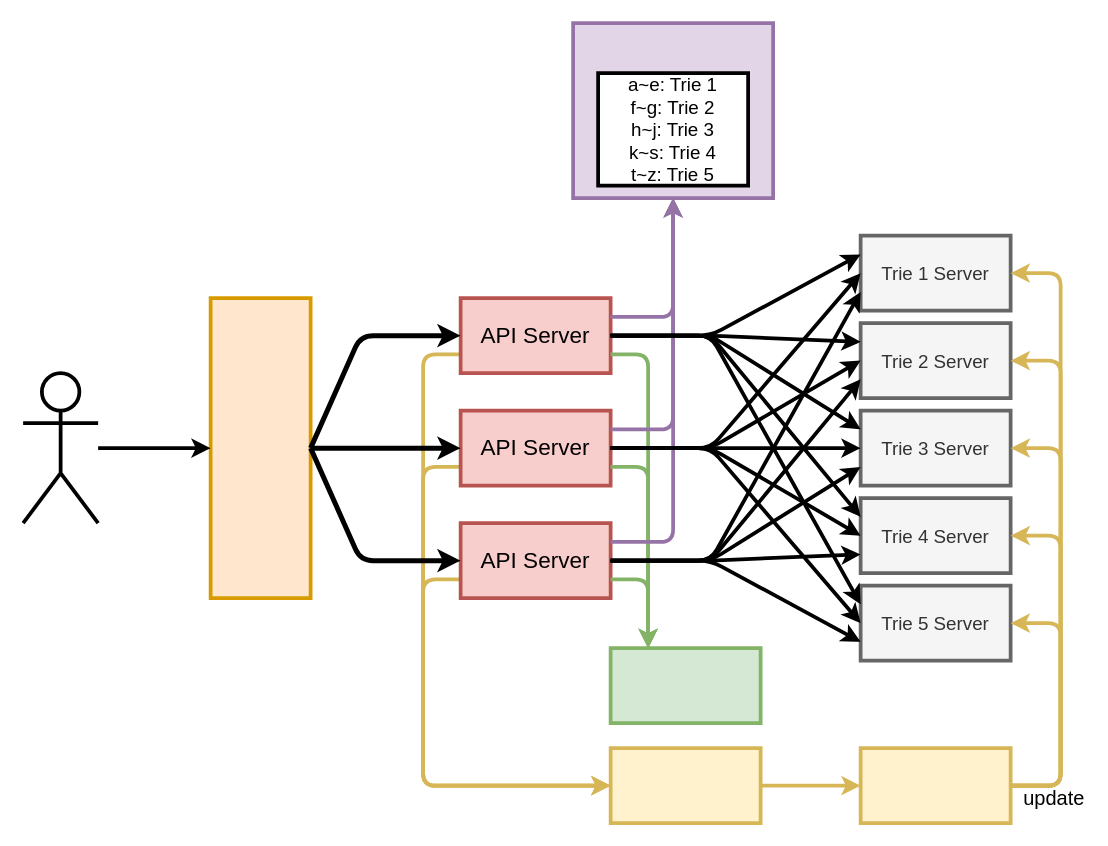
Image size: 1108x846. Some labels were removed from this diagram. The shapes that lost their labels are listed below. From the top down, each one's box as (x1, y1, x2, y2) in pixels, then its label:
(571, 21, 774, 199): Zookeeper
(208, 296, 312, 599): Load Balancer
(608, 646, 762, 724): Cache
(608, 746, 762, 824): log
(858, 746, 1012, 824): Map-Reduce
